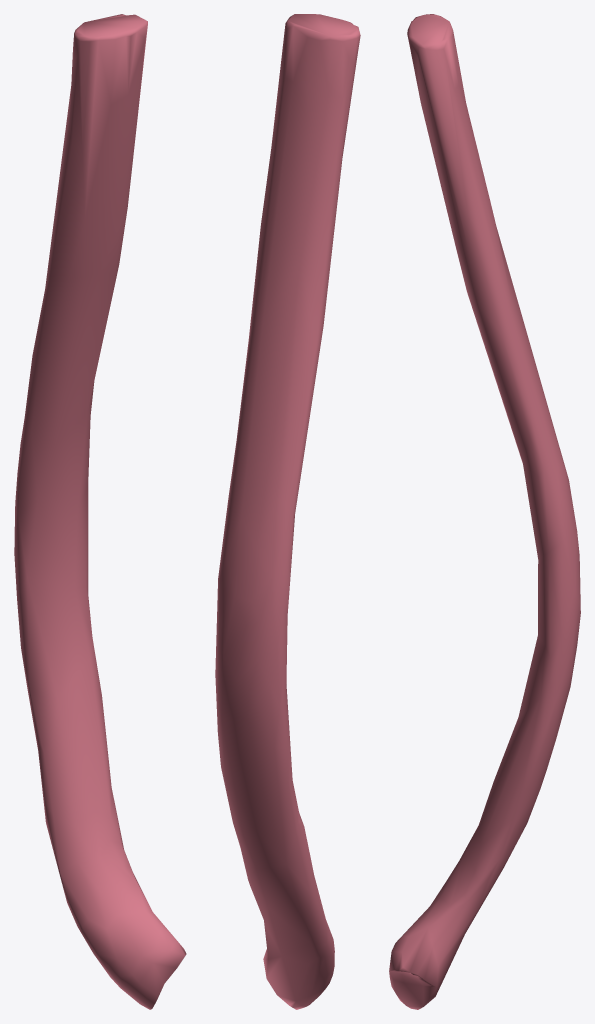
Rendered from Oesophagus.glb.
3 renders of one model, left to right at view 1: azimuth 30°, elevation 25°; view 2: azimuth 150°, elevation 25°; view 3: azimuth 270°, elevation 25°, orthographic. The views are drawn at different scales.
Parts seen in each view (by area): view 1: Oesophagus_Generated_Mesh_From_X3D.731; view 2: Oesophagus_Generated_Mesh_From_X3D.731; view 3: Oesophagus_Generated_Mesh_From_X3D.731.
Boxes of the visible parts, <box> form: Oesophagus_Generated_Mesh_From_X3D.731: <box>14,14,186,1009</box>; Oesophagus_Generated_Mesh_From_X3D.731: <box>215,14,360,1009</box>; Oesophagus_Generated_Mesh_From_X3D.731: <box>389,14,580,1009</box>.
Size of the model in its own units: 0.0268 by 0.2575 by 0.0464.
